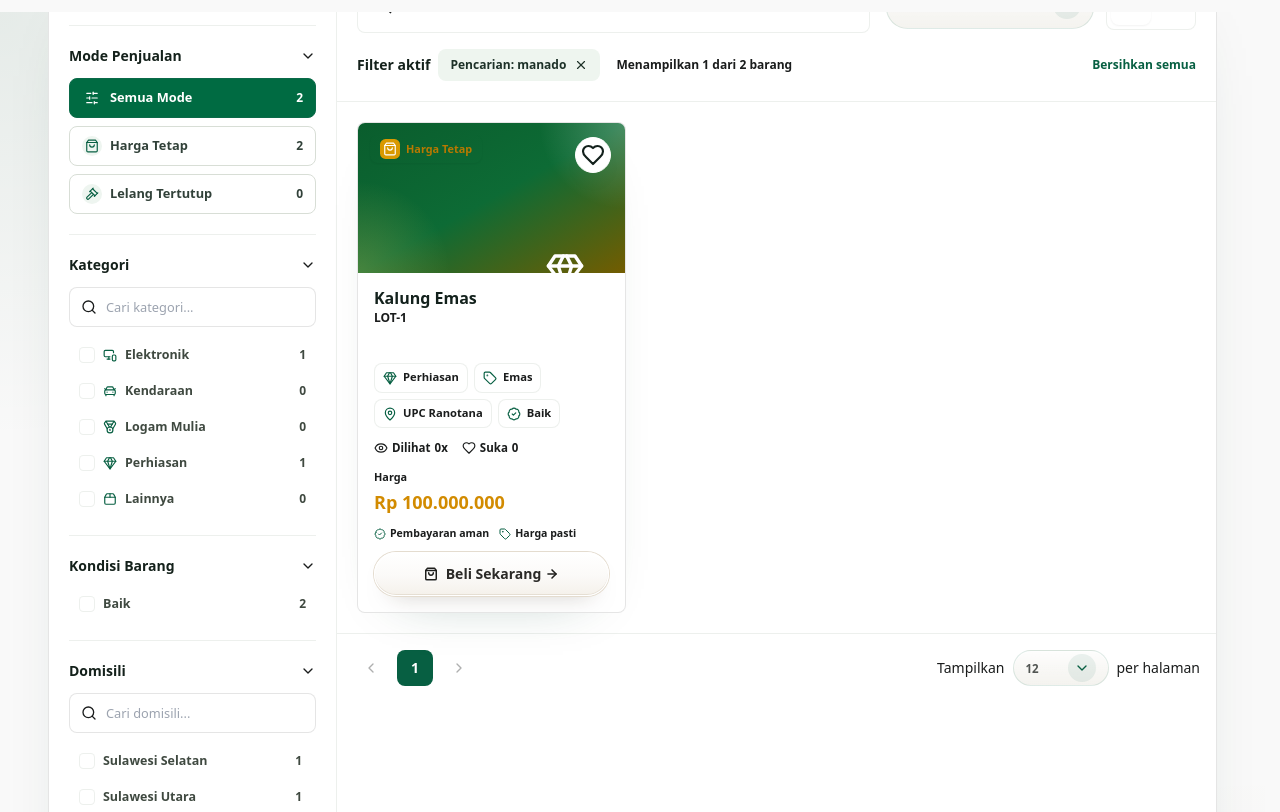
Test: CatalogPage › filters catalog items with the incoming buyer search query and visual mode controls
This screenshot has width=1280, height=812.
Expected: the heading "Kalung Emas" is shown, [374,287,477,309]
Expected: the button "Pencarian: manado" is shown, [438,49,600,81]
Step 1. Click the button "Lelang Tertutup 0" → (192, 194), box [69,174,316,214]
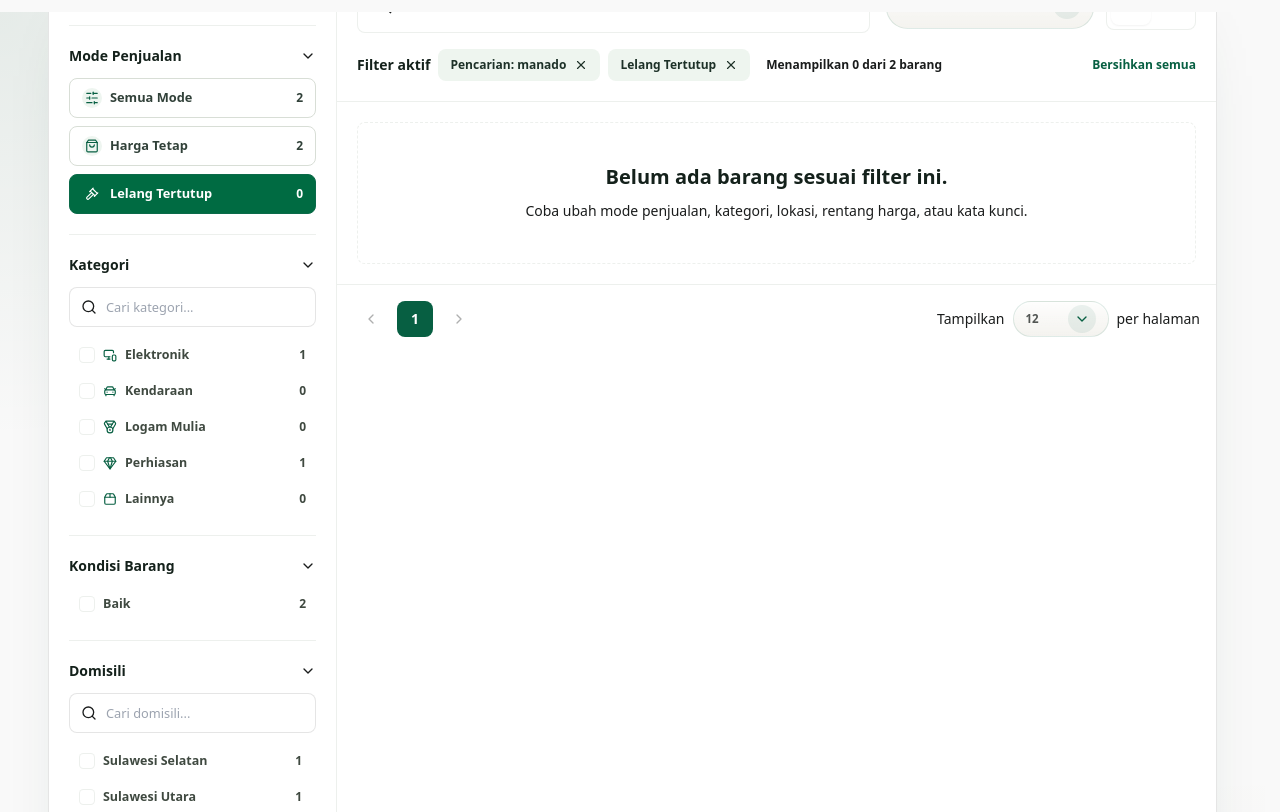
Expected: the heading "Kalung Emas" is gone
Expected: the text "Belum ada barang sesuai filter ini." is shown, [606,163,947,190]
